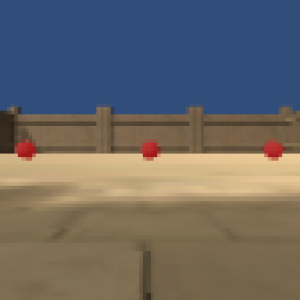badGoal: (136, 138, 164, 165), (12, 139, 40, 162), (262, 139, 285, 164)
